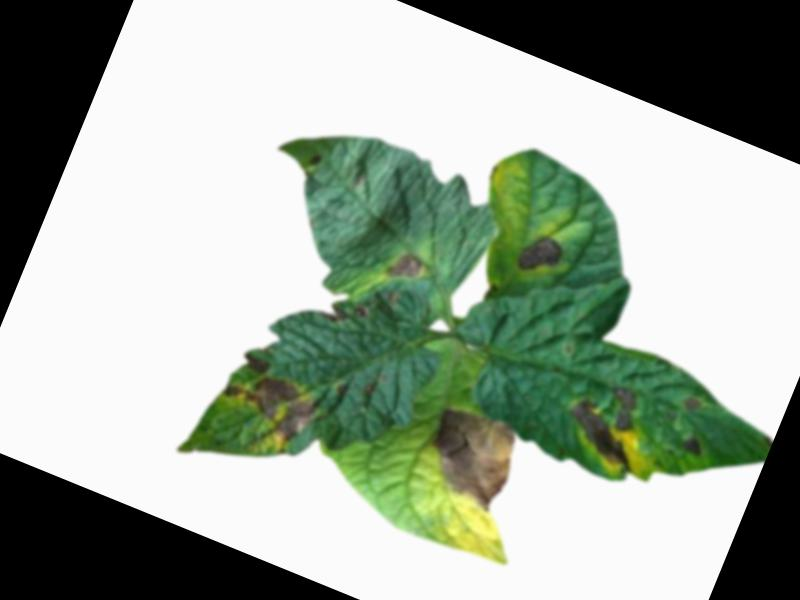Early_blight: (419, 400, 527, 514), (555, 371, 660, 474), (210, 357, 324, 448), (512, 226, 566, 282), (321, 291, 371, 332), (385, 244, 427, 284), (240, 347, 271, 376), (680, 433, 705, 457), (680, 392, 702, 412), (306, 150, 320, 166)
